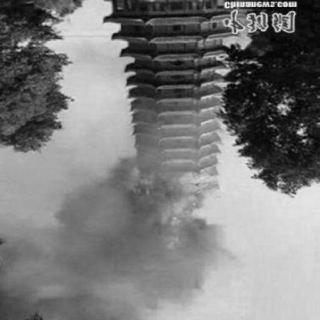Fire: (118, 165, 226, 249)
Smoke: (33, 196, 203, 317)
